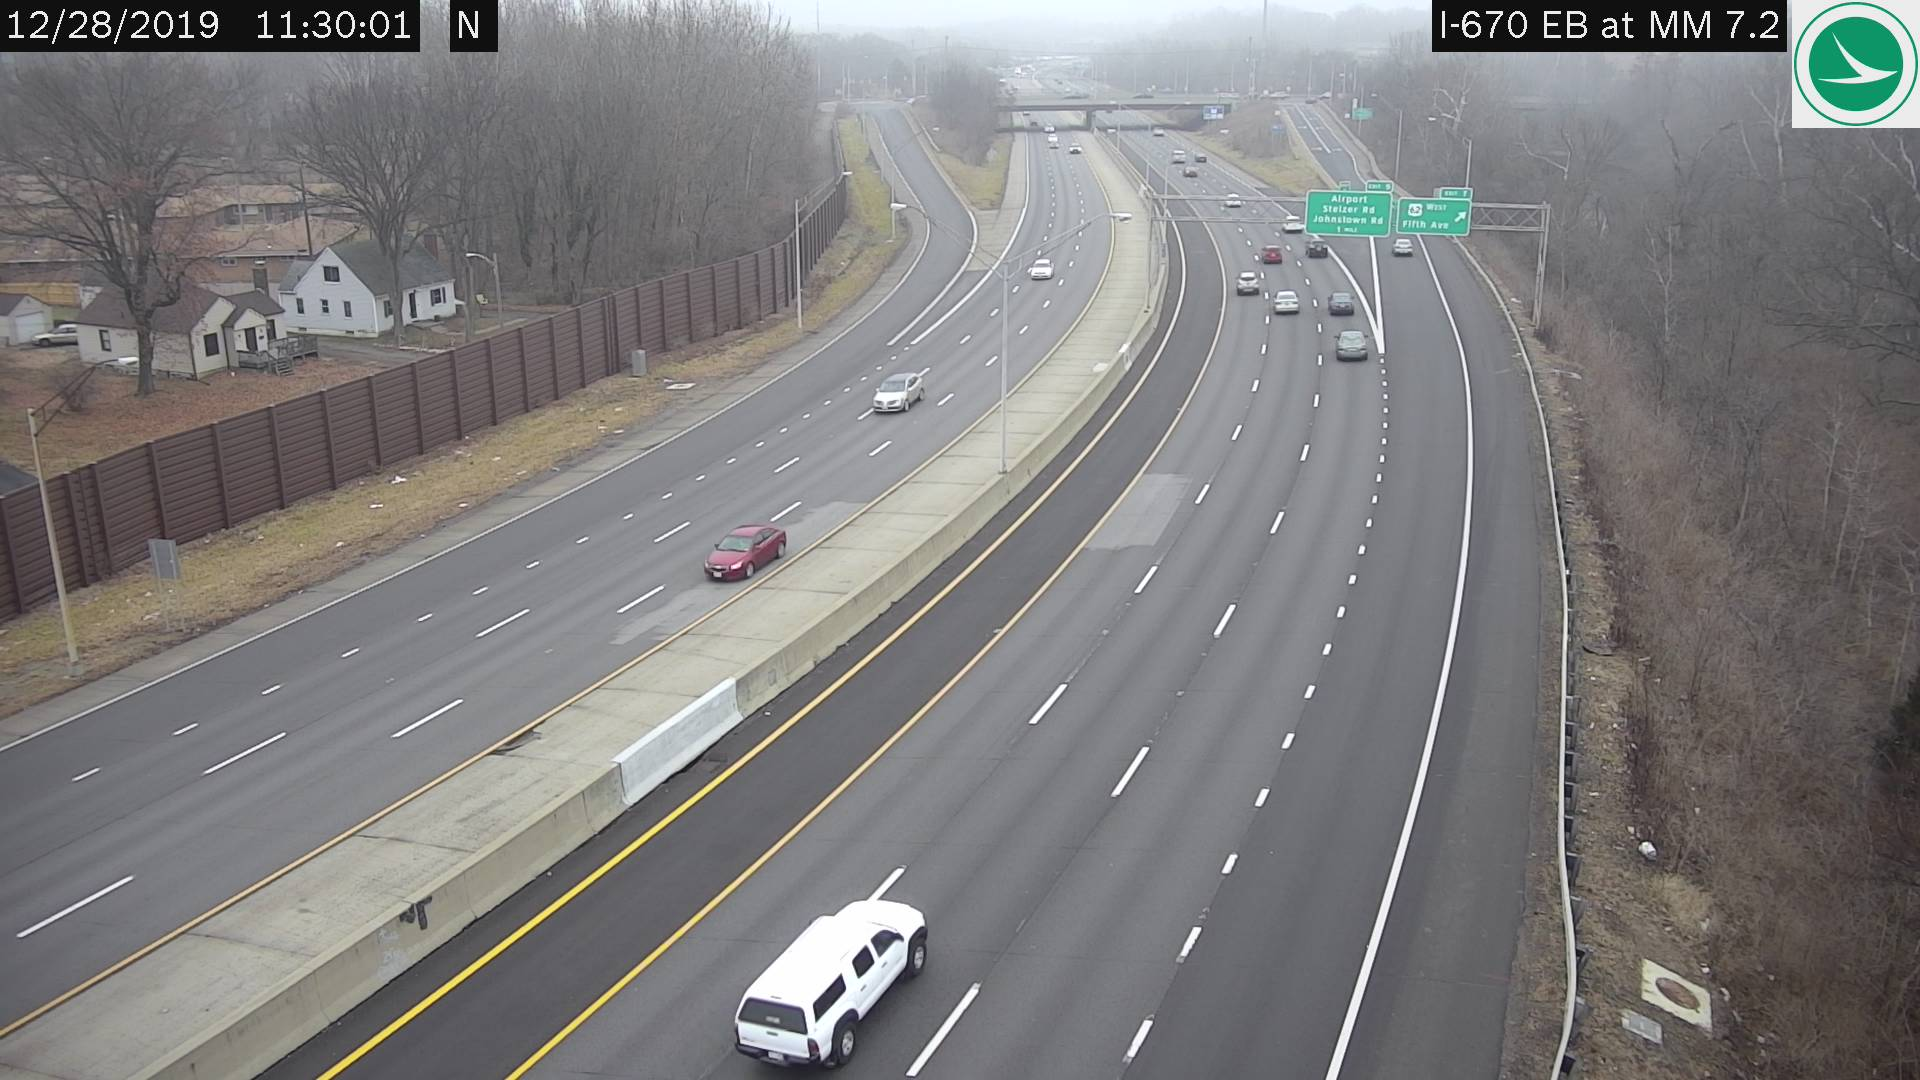car: (735, 895, 926, 1060), (702, 524, 782, 580), (870, 368, 922, 411), (1335, 328, 1366, 360), (1270, 287, 1298, 316), (1234, 268, 1262, 295), (1327, 291, 1354, 316), (1262, 240, 1286, 268), (1030, 252, 1054, 276), (1302, 236, 1327, 256), (1278, 212, 1302, 232), (1394, 232, 1410, 256)
